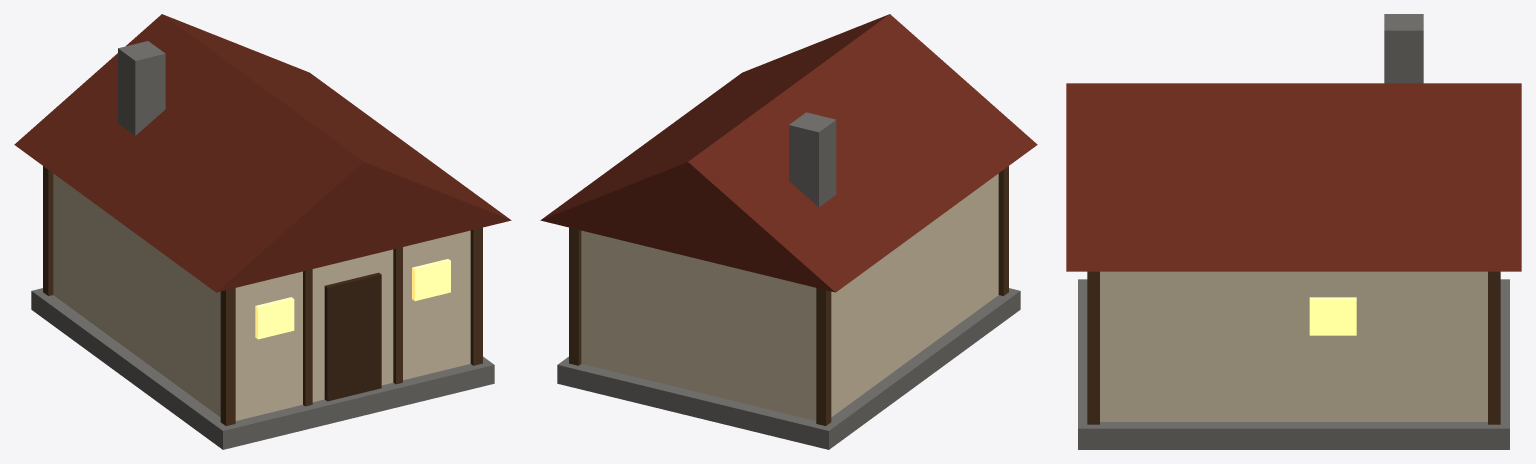
Rendered from house.glb.
3 renders of one model, left to right at view 1: azimuth 30°, elevation 25°; view 2: azimuth 150°, elevation 25°; view 3: azimuth 270°, elevation 25°, orthographic. The views are drawn at different scales.
Parts seen in each view (by area): view 1: house; view 2: house; view 3: house.
Boxes of the visible parts, <box> form: house: <box>14,14,511,449</box>; house: <box>540,14,1037,449</box>; house: <box>1066,14,1521,449</box>.
Size of the model in its own units: 4.9 by 4.4 by 5.8.
